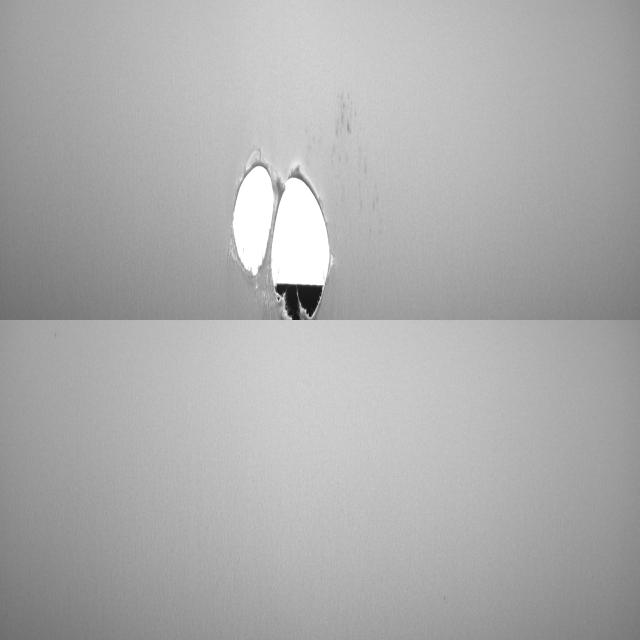Stain: (331, 86, 384, 235)
hole: (271, 164, 333, 325), (228, 157, 274, 286)
